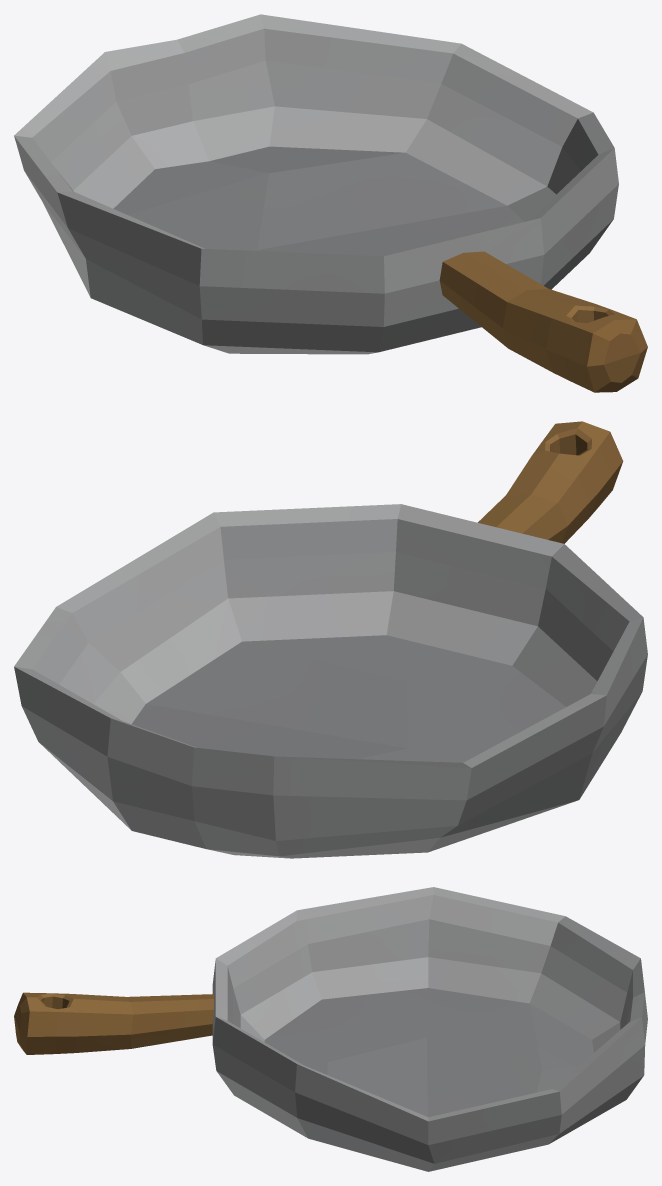
Rendered from pan_bent.glb.
3 renders of one model, top to bottom at view 1: azimuth 30°, elevation 25°; view 2: azimuth 150°, elevation 25°; view 3: azimuth 270°, elevation 25°, orthographic. The views are drawn at different scales.
Visible parts, largest first — view 1: pan_bent; view 2: pan_bent; view 3: pan_bent.
Part boxes in pixels (x1=…): pan_bent: x1=14, y1=14, x2=647, y2=392; pan_bent: x1=14, y1=421, x2=647, y2=858; pan_bent: x1=14, y1=887, x2=647, y2=1171.
Size of the model in its own units: 0.4482 by 0.1184 by 0.606.
1 material, 1 textured.
